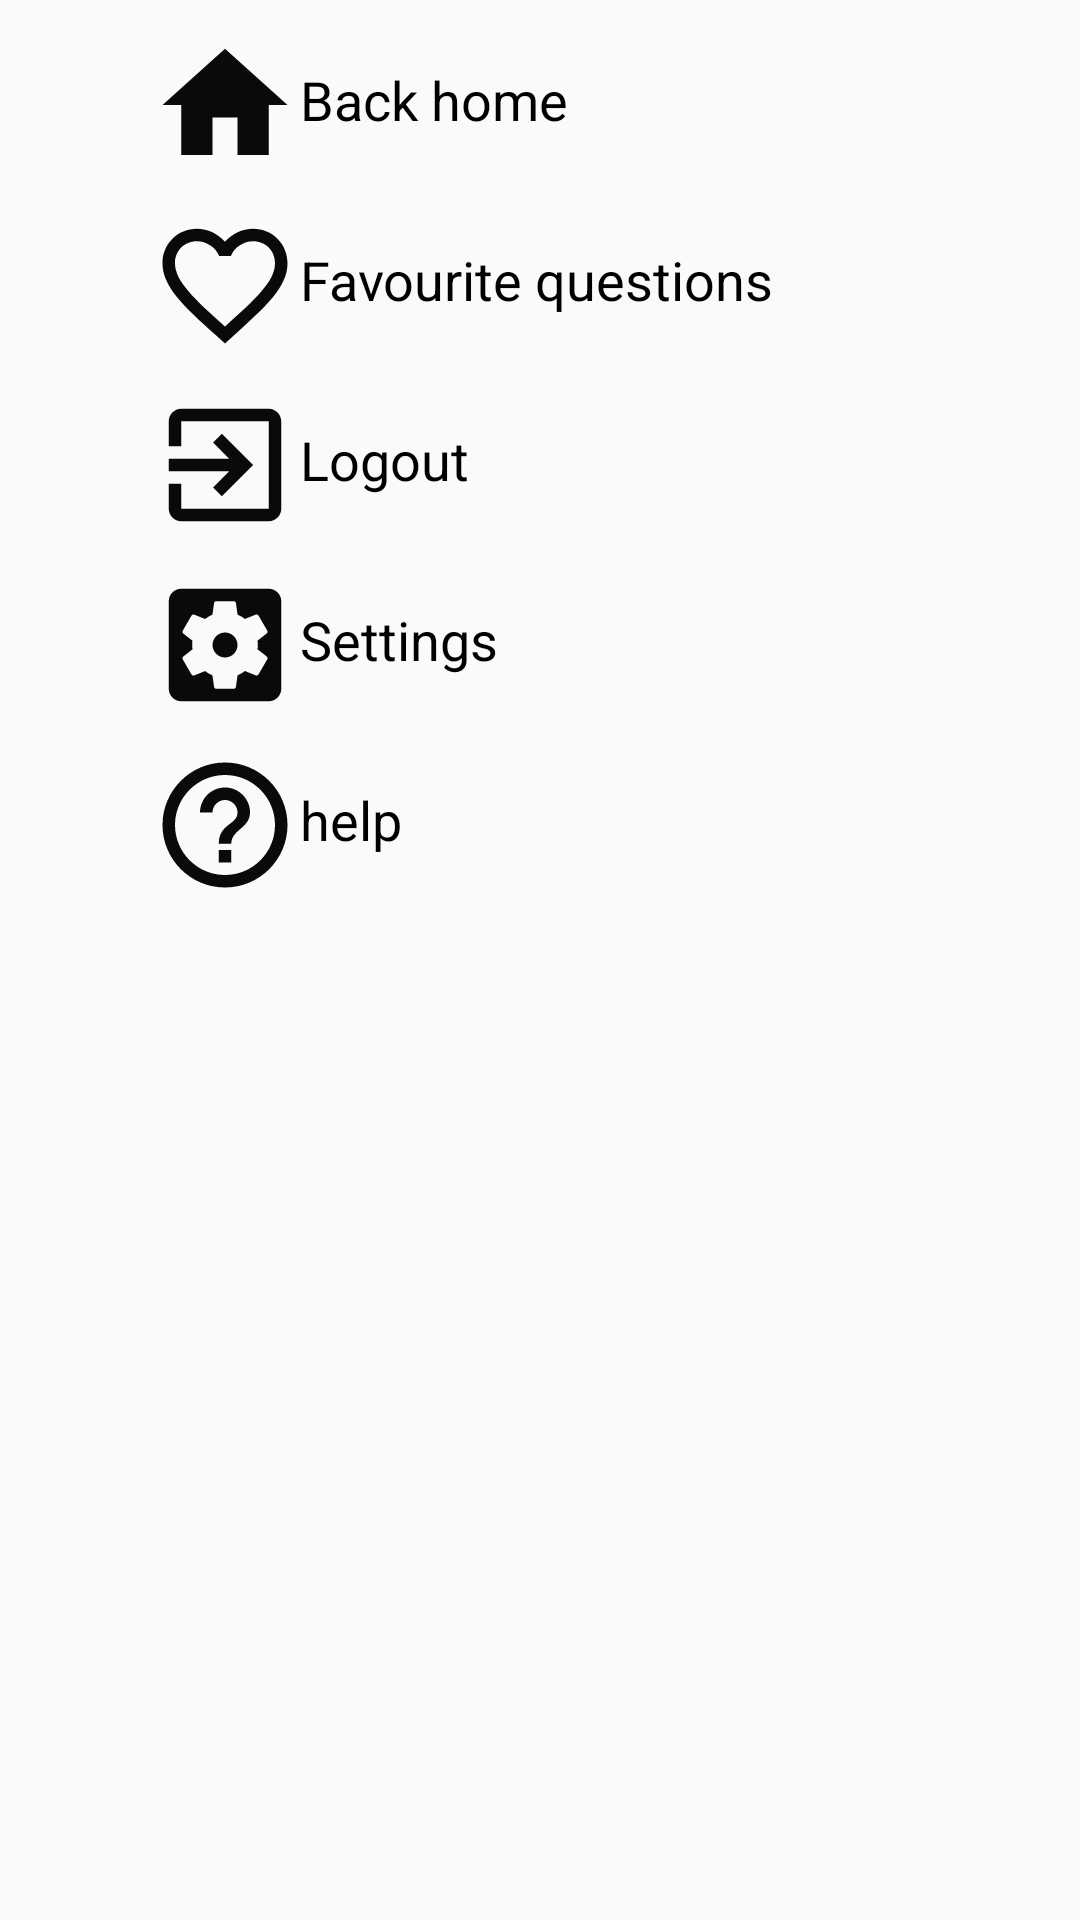

Icon click points for this 1080×1920 phone screenshot, format [x,y]:
exit to app: [225,465]
